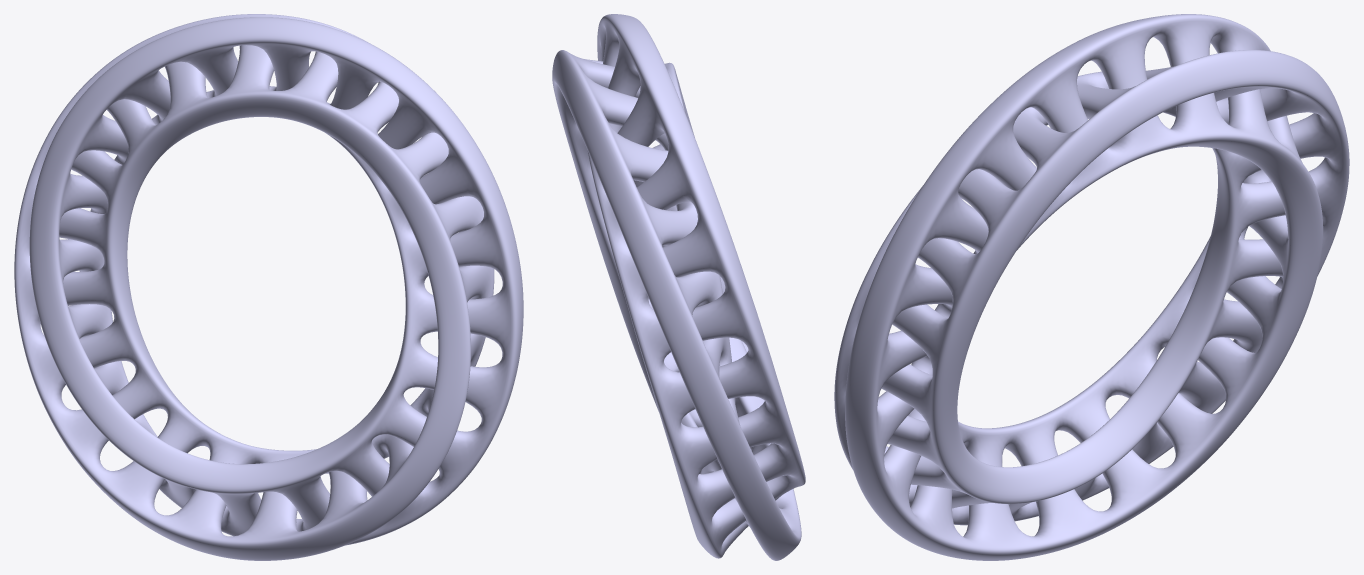
3 renders of one model, left to right at view 1: azimuth 30°, elevation 25°; view 2: azimuth 150°, elevation 25°; view 3: azimuth 270°, elevation 25°, orthographic. The views are drawn at different scales.
Parts seen in each view (by area): view 1: Mobius; view 2: Mobius; view 3: Mobius.
Boxes of the visible parts, x1,y1,x2,y2 form: Mobius: (14,14,523,560); Mobius: (552,14,805,560); Mobius: (834,14,1349,560).
Size of the model in its own units: 6.77 by 9.59 by 8.13.
